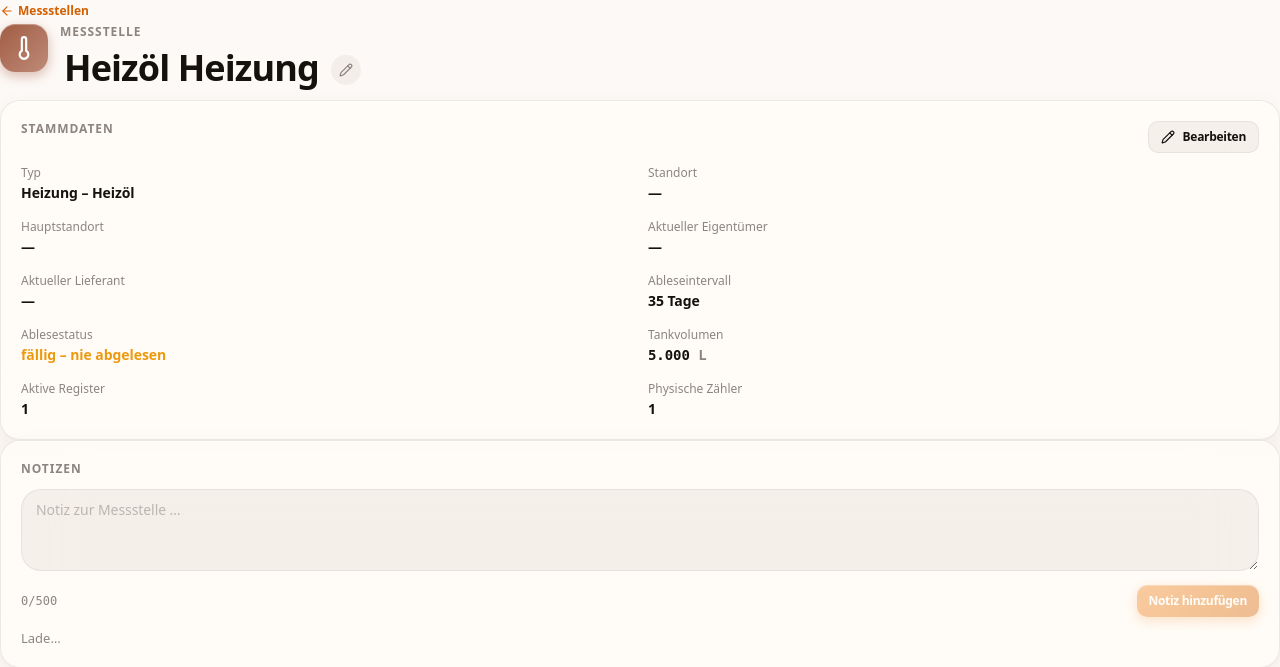
Test: MeasuringPointDetailPage Stammdaten-Card › zeigt Tankvolumen im Edit-Formular bei Heizöl
The image size is (1280, 667).
Click the button "Bearbeiten": (1203, 137) [1148,121,1259,153]
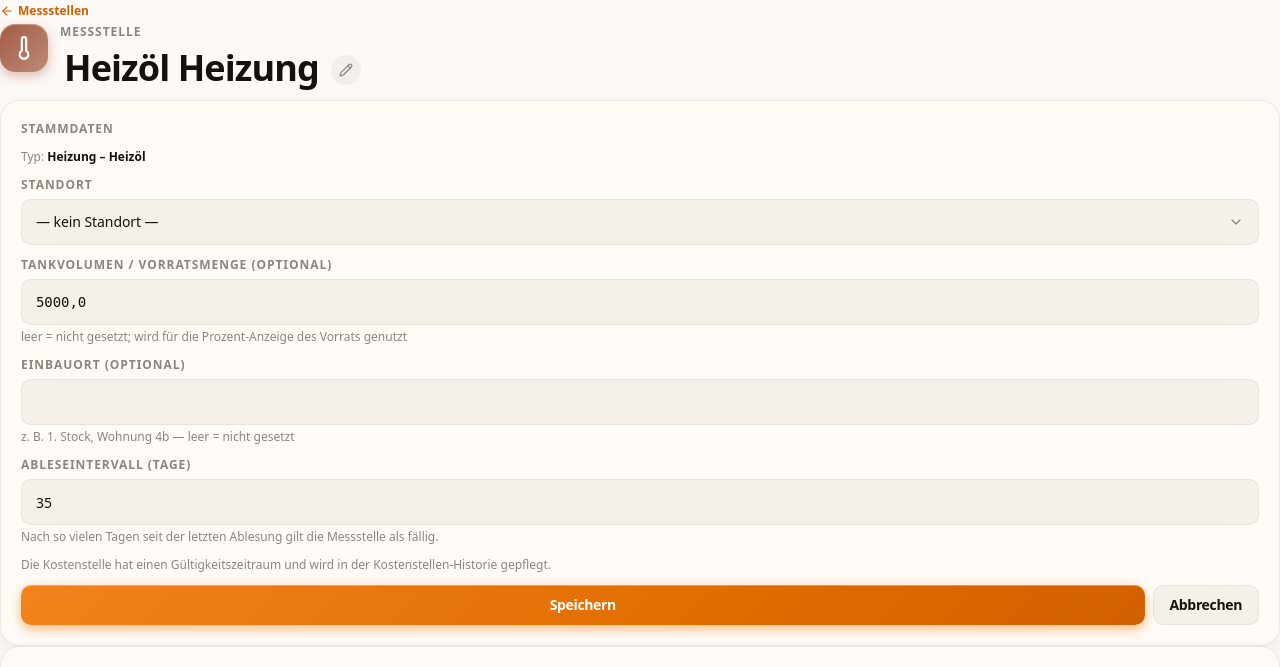
Expected: the field labelled "Tankvolumen" is shown, [36,280,1244,324]
